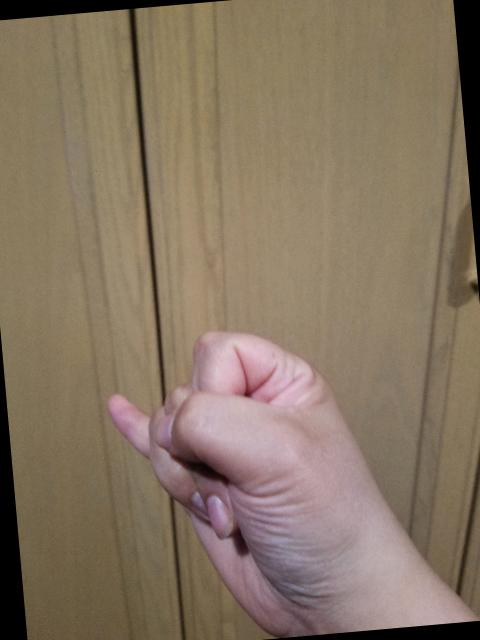J: (94, 309, 413, 640)
